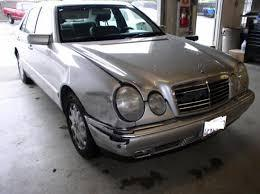front-bumper-dent: (85, 116, 172, 158)
